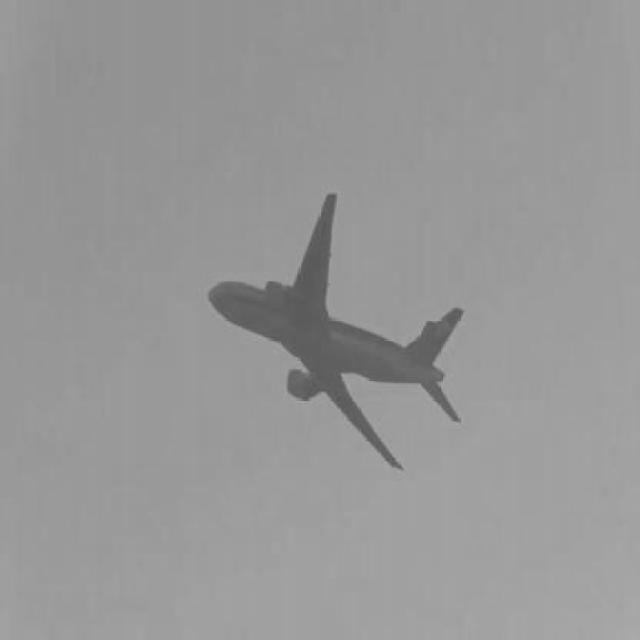aeroplane: (204, 192, 475, 471)
